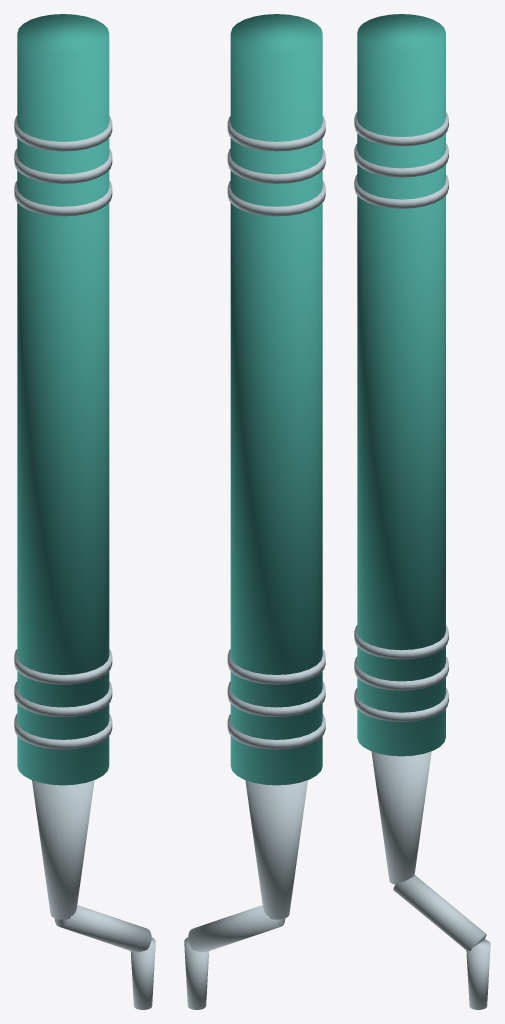
Rendered from excavator.glb.
3 renders of one model, left to right at view 1: azimuth 30°, elevation 25°; view 2: azimuth 150°, elevation 25°; view 3: azimuth 330°, elevation 25°, orthographic. The views are drawn at different scales.
Parts seen in each view (by area): view 1: Grip.002, Tapered neck.002, Angled tip.002, Fine bur, Grip ring.015, Grip ring.017, Grip ring.012, Grip ring.014, Grip ring.016, Grip ring.013; view 2: Grip.002, Tapered neck.002, Angled tip.002, Fine bur, Grip ring.015, Grip ring.017, Grip ring.012, Grip ring.014, Grip ring.016, Grip ring.013; view 3: Grip.002, Tapered neck.002, Angled tip.002, Fine bur, Grip ring.012, Grip ring.013, Grip ring.015, Grip ring.014, Grip ring.016, Grip ring.017.
Part boxes in pixels (<box>): Grip.002: <box>17,14,109,785</box>; Tapered neck.002: <box>32,780,94,919</box>; Angled tip.002: <box>54,905,151,952</box>; Fine bur: <box>130,937,155,1009</box>; Grip ring.015: <box>14,181,112,216</box>; Grip ring.017: <box>14,116,112,151</box>; Grip ring.012: <box>14,714,112,749</box>; Grip ring.014: <box>14,649,112,684</box>; Grip ring.016: <box>14,148,112,183</box>; Grip ring.013: <box>14,681,112,716</box>; Grip.002: <box>230,14,322,785</box>; Tapered neck.002: <box>245,780,307,919</box>; Angled tip.002: <box>188,905,285,952</box>; Fine bur: <box>184,937,209,1009</box>; Grip ring.015: <box>227,181,325,216</box>; Grip ring.017: <box>227,116,325,151</box>; Grip ring.012: <box>227,714,325,749</box>; Grip ring.014: <box>227,649,325,684</box>; Grip ring.016: <box>227,148,325,183</box>; Grip ring.013: <box>227,681,325,716</box>; Grip.002: <box>357,14,445,756</box>; Tapered neck.002: <box>371,751,431,884</box>; Angled tip.002: <box>393,875,486,950</box>; Fine bur: <box>466,939,490,1009</box>; Grip ring.012: <box>354,688,448,721</box>; Grip ring.013: <box>354,656,448,690</box>; Grip ring.015: <box>354,174,448,208</box>; Grip ring.014: <box>354,625,448,659</box>; Grip ring.016: <box>354,143,448,177</box>; Grip ring.017: <box>354,112,448,146</box>.
Size of the model in its own units: 0.301 by 2.14 by 0.192.
